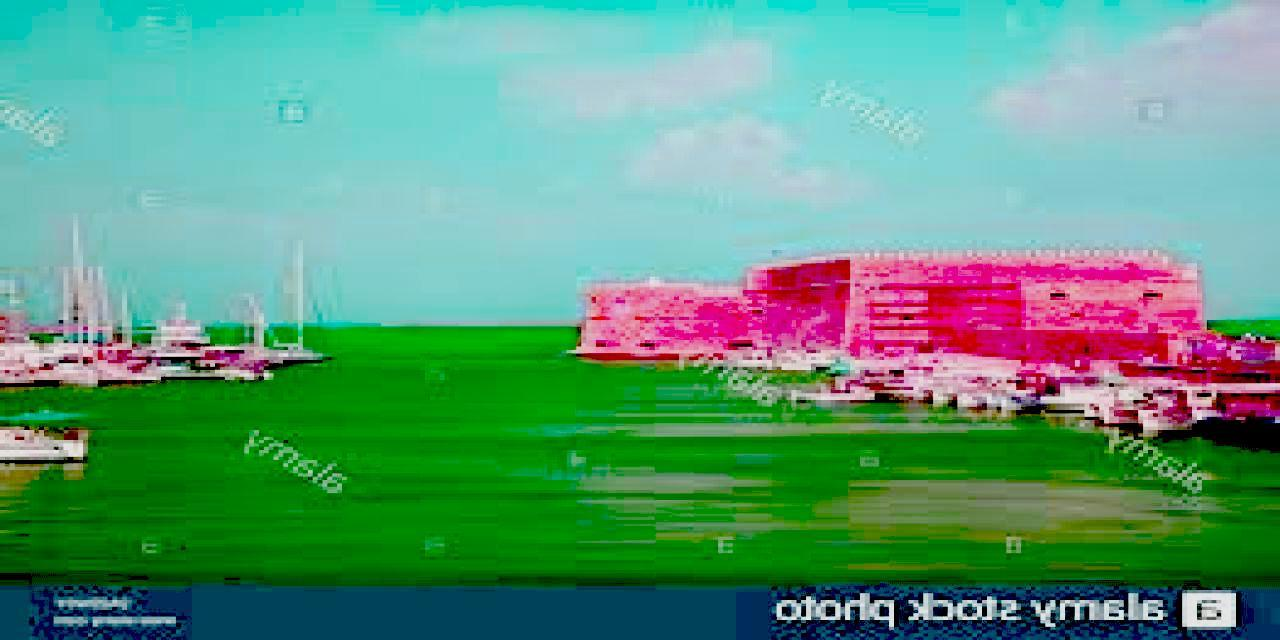Kules: (564, 245, 1210, 360)
